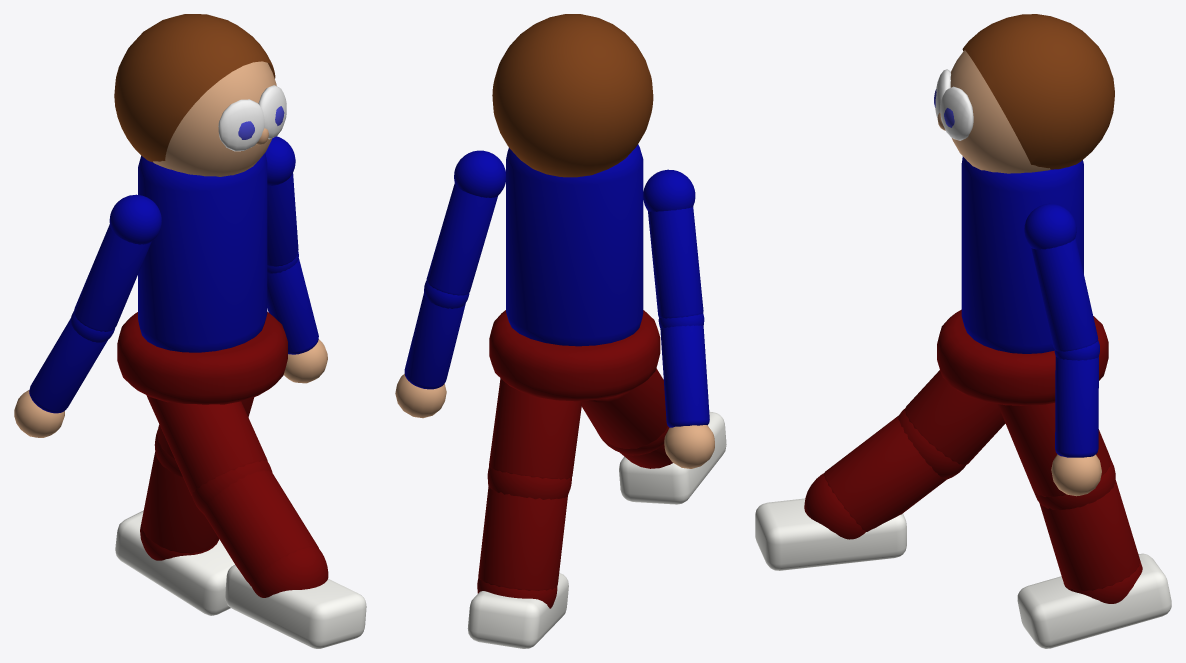
3 views of the same model, side by side, from view 1: azimuth 30°, elevation 25°; view 2: azimuth 150°, elevation 25°; view 3: azimuth 270°, elevation 25° (orthographic).
Visible parts, largest first — view 1: torso, hair, pelvis, shin_f, thigh_f, shoe_f, head, shoe_n, shin_n, uarm_f, farm_f, farm_n (+11 smaller); view 2: torso, hair, pelvis, shin_n, thigh_n, uarm_f, uarm_n, shoe_n, farm_f, thigh_f, shoe_f, farm_n (+9 smaller); view 3: torso, hair, shin_f, shoe_n, pelvis, shin_n, shoe_f, thigh_f, head, uarm_n, farm_n, thigh_n (+7 smaller).
Part boxes in pixels (x1,y1,x2,y2): torso: [138, 153, 267, 352]; hair: [114, 14, 275, 162]; pelvis: [117, 312, 287, 404]; shin_f: [204, 470, 318, 586]; thigh_f: [146, 395, 267, 495]; shoe_f: [225, 565, 366, 648]; head: [153, 61, 276, 176]; shoe_n: [115, 510, 234, 615]; shin_n: [141, 452, 218, 553]; uarm_f: [74, 224, 151, 331]; farm_f: [29, 318, 107, 413]; farm_n: [267, 258, 318, 354]; torso: [506, 144, 643, 346]; hair: [492, 14, 653, 177]; pelvis: [489, 310, 660, 401]; shin_n: [478, 486, 567, 590]; thigh_n: [489, 378, 581, 479]; uarm_f: [648, 206, 703, 318]; uarm_n: [426, 183, 497, 295]; shoe_n: [467, 573, 568, 648]; farm_f: [660, 325, 709, 427]; thigh_f: [581, 368, 667, 448]; shoe_f: [619, 411, 726, 504]; farm_n: [404, 293, 465, 389]; torso: [961, 156, 1083, 353]; hair: [962, 14, 1114, 169]; shin_f: [823, 416, 945, 531]; shoe_n: [1017, 553, 1171, 648]; pelvis: [937, 309, 1108, 405]; shin_n: [1039, 480, 1140, 590]; shoe_f: [755, 498, 906, 570]; thigh_f: [904, 370, 1005, 464]; head: [950, 50, 1050, 173]; uarm_n: [1031, 237, 1098, 351]; farm_n: [1055, 356, 1098, 457]; thigh_n: [997, 403, 1110, 497].
Size of the model in its own units: 0.7855 by 1.45 by 0.9113.
